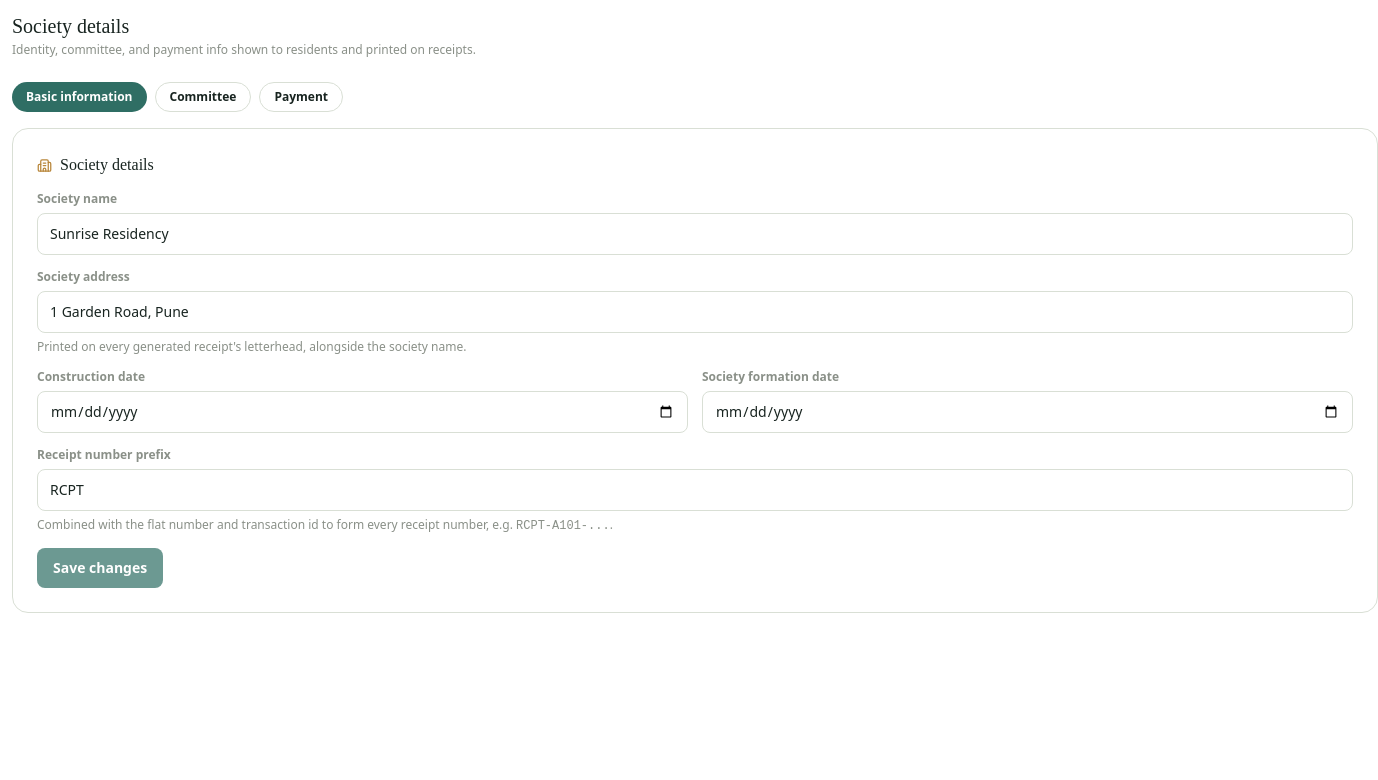
SocietyDetailsPage › Basic information tab › blocks saving a pre-existing society until both dates are filled in
Expected: the date field labelled "Construction date" is empty, 37,391 -> 688,433
Type "!" into the field labelled "Society name".
click(695, 234); type("!")  # box 37,213 -> 1353,255
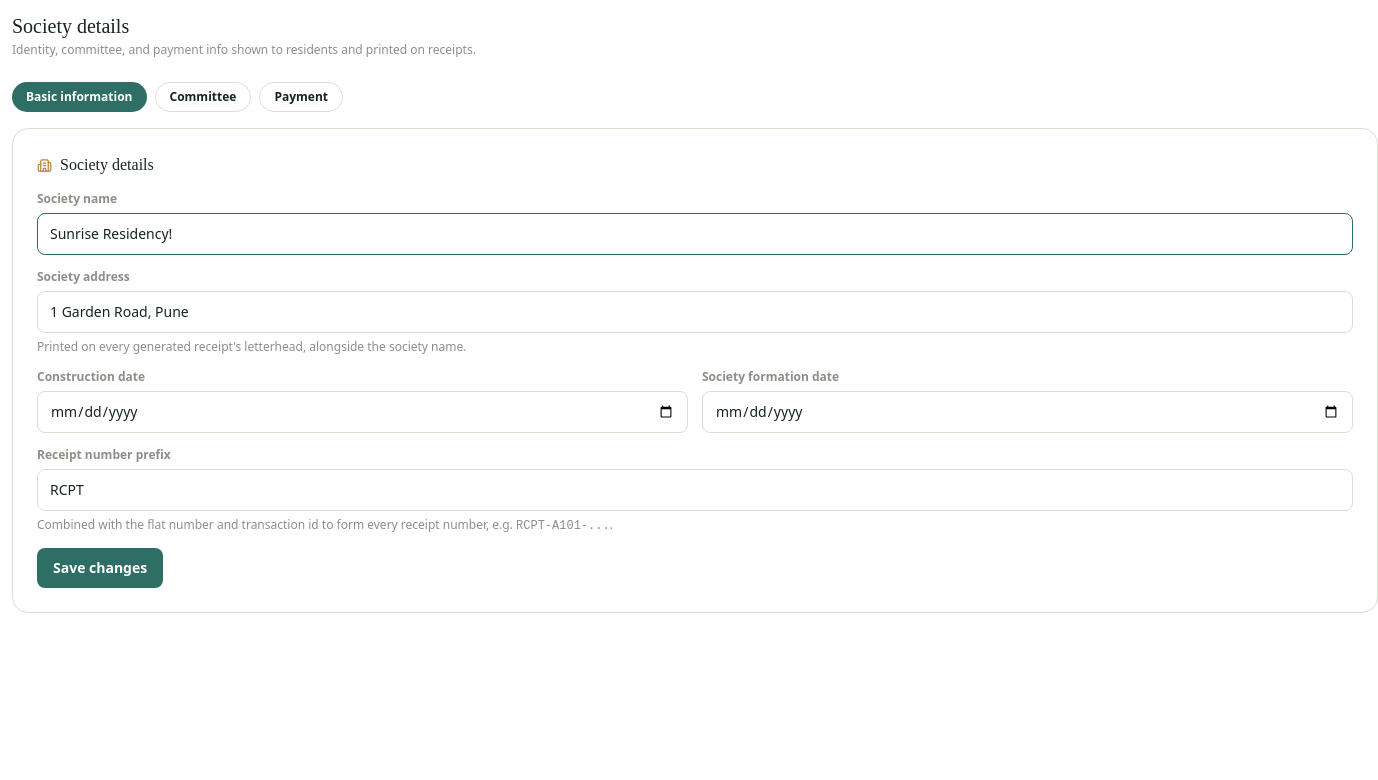
Click the button "Save changes".
click(100, 568)  # box 37,548 -> 163,588
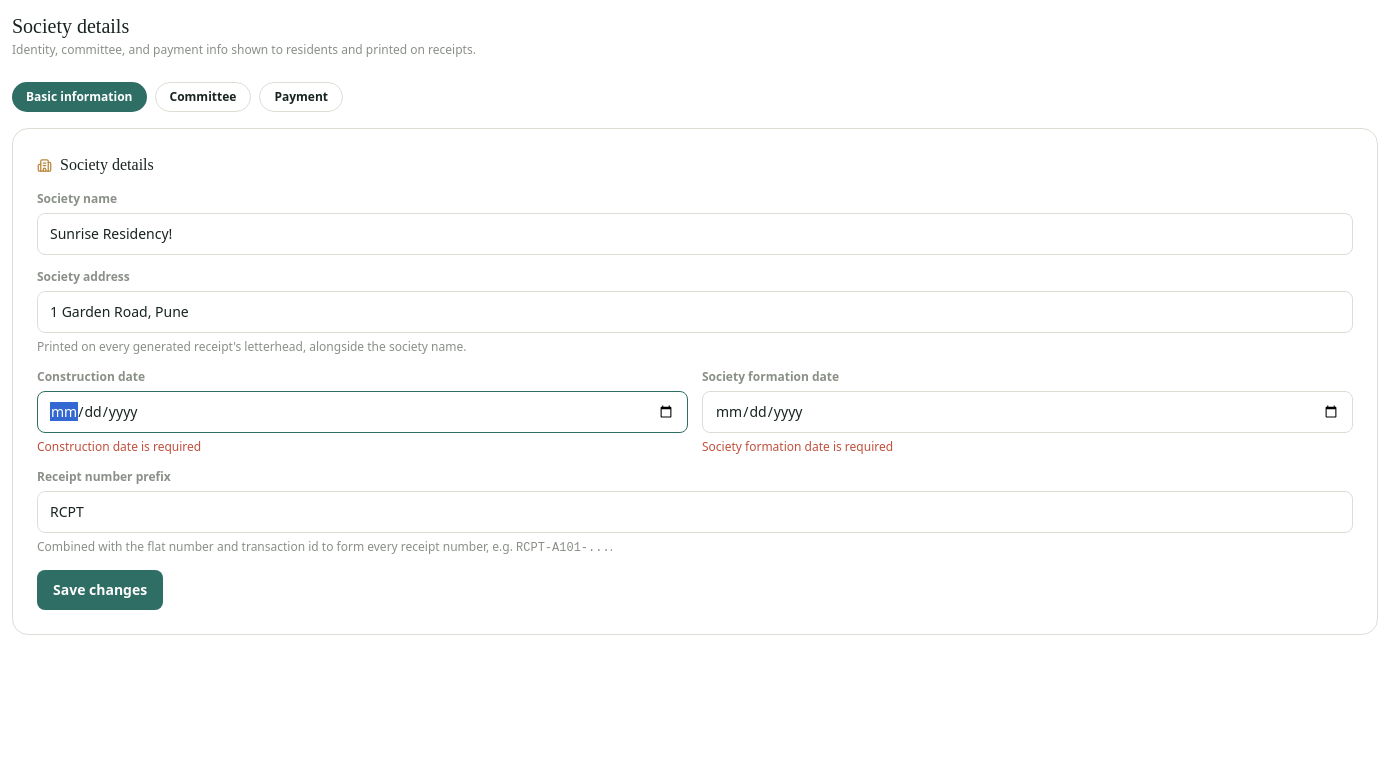
Now the text "Construction date is required" is shown, box 37,438 -> 201,455
Now the text "Society formation date is required" is shown, box 702,438 -> 893,455
